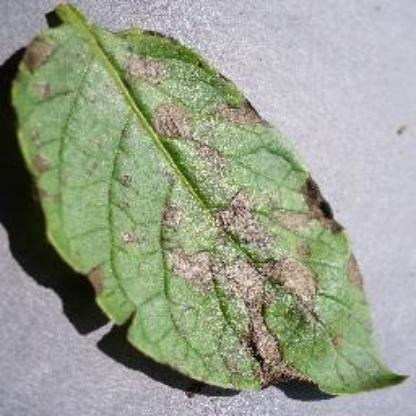Early-Blight: (9, 2, 408, 394)
